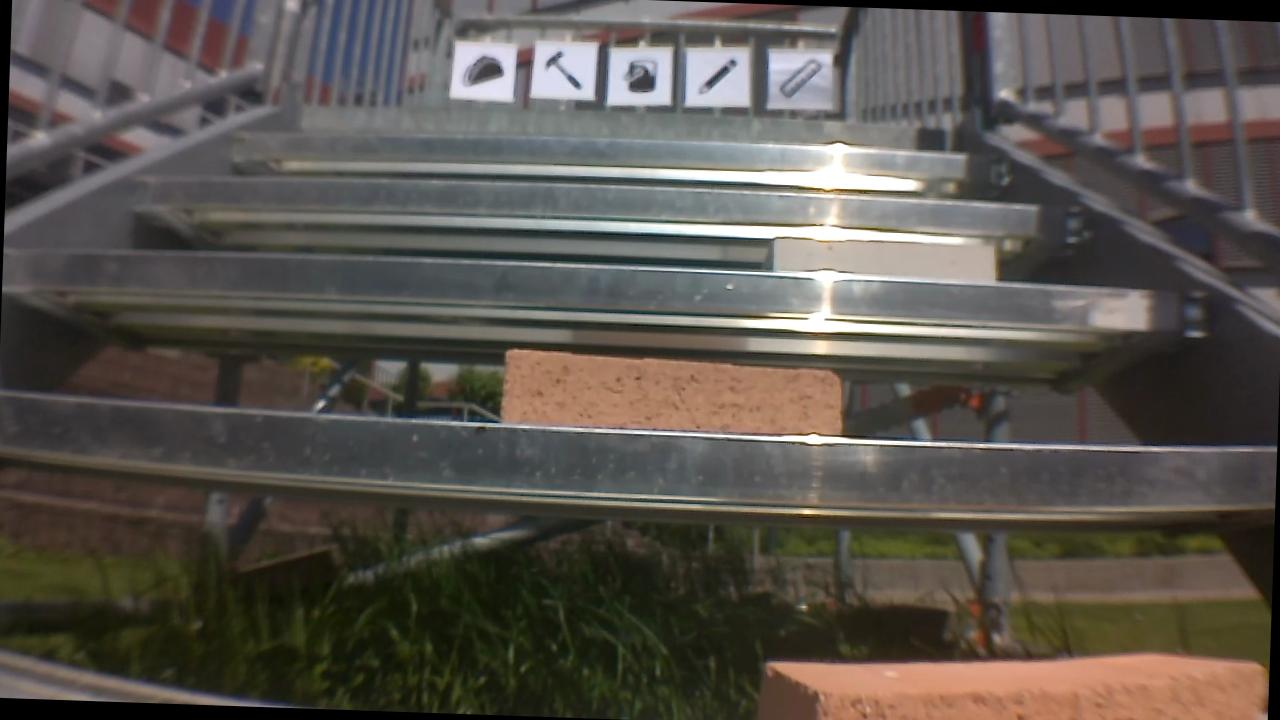brick: (773, 638, 1270, 720), (491, 346, 850, 433), (771, 234, 1004, 279)
bucket: (622, 57, 660, 93)
edge: (4, 403, 1277, 518), (1, 245, 1218, 336), (116, 170, 1096, 247), (224, 127, 1016, 193), (281, 102, 971, 157)
hammer: (540, 51, 586, 94)
pencil: (692, 56, 746, 101)
ruler: (774, 58, 821, 101)
taco: (459, 54, 504, 89)
